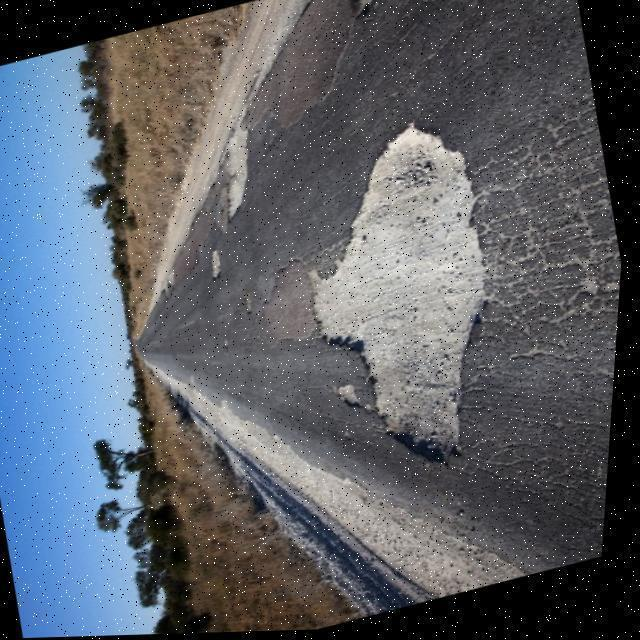Pothole: (315, 126, 485, 461), (224, 128, 249, 218)
